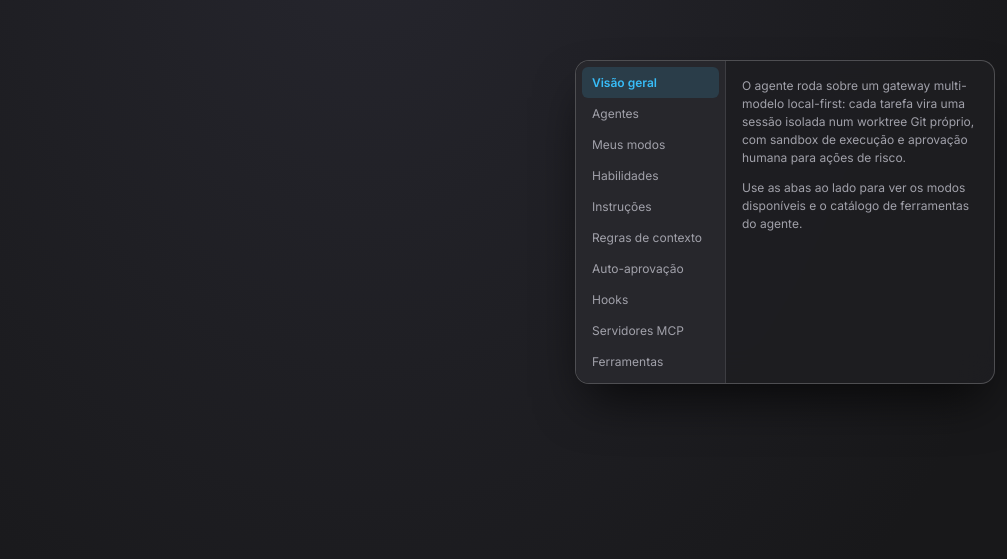
CustomizationsPopover — aba Meus modos (Fase 6) › mostra estado vazio e abre o formulário de criação
Click the button "Meus modos".
click(650, 144)  # box [582,129,719,160]
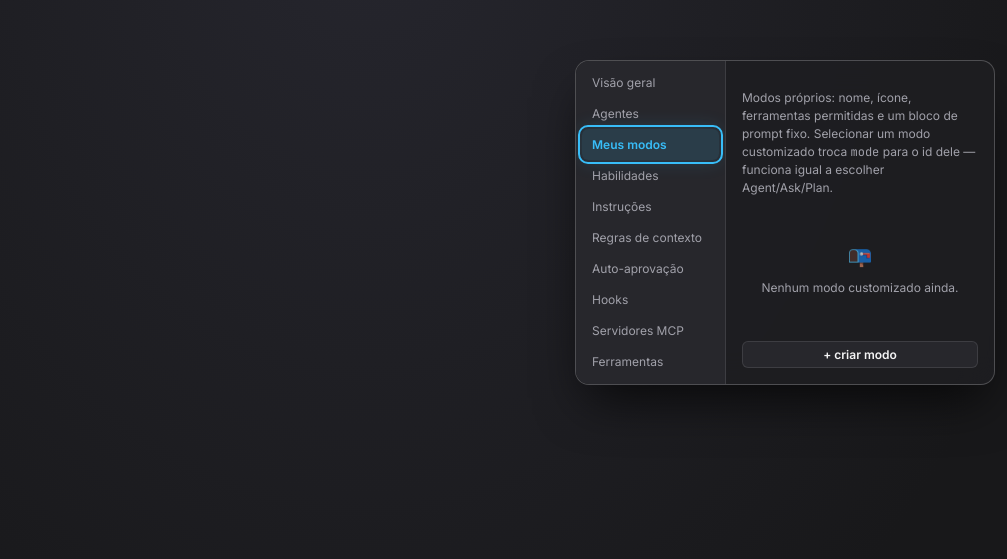
expect the text "Nenhum modo customizado ainda." is shown: met, box [761,279,958,297]
Click the button "+ criar modo".
click(860, 354)  # box [742,341,978,368]
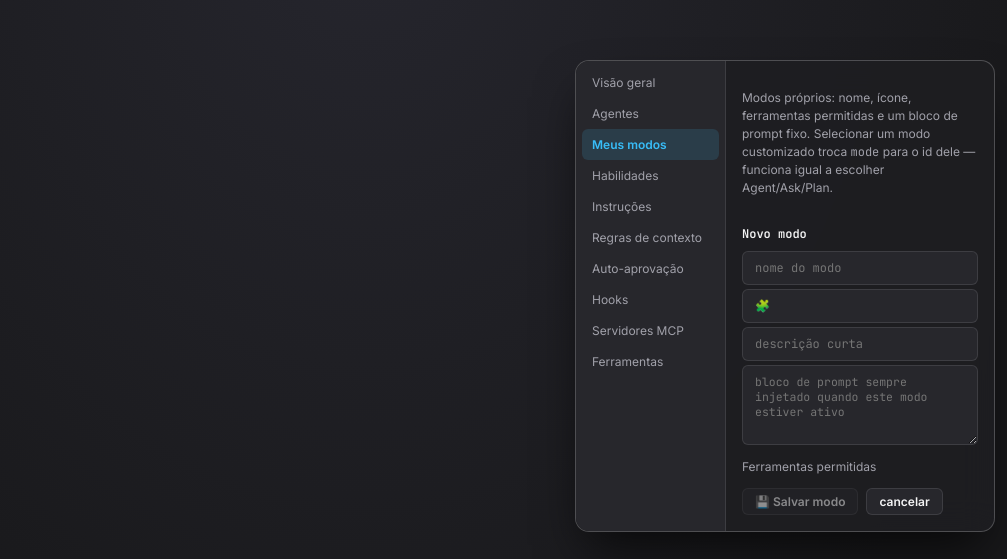
expect the field with placeholder "nome do modo" is shown: met, box [742,251,978,285]
expect the text box with placeholder "bloco de prompt sempre injetado quando este modo estiver ativo" is shown: met, box [742,365,978,445]
